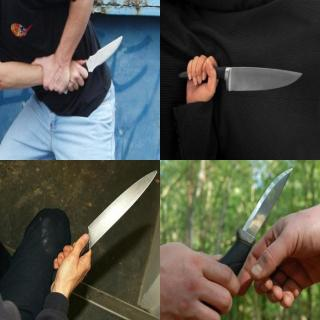knife: (200, 162, 296, 290), (53, 168, 157, 272), (186, 53, 304, 101), (70, 32, 122, 92)
